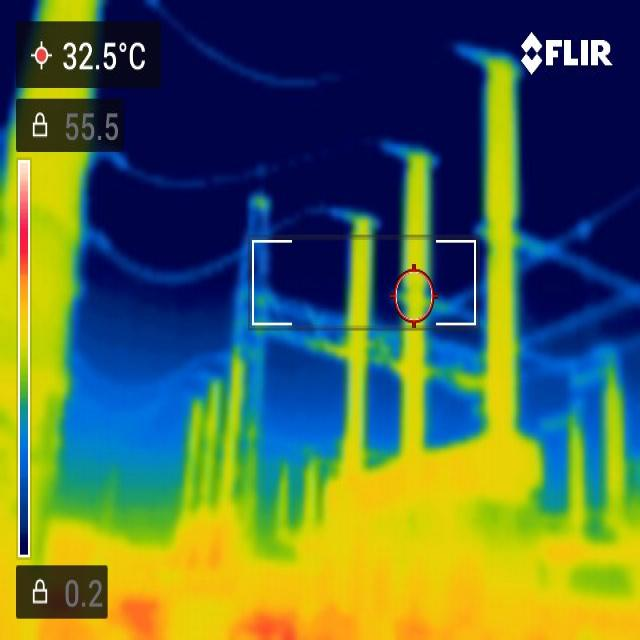Zona_Atenco: (243, 605, 324, 638), (121, 594, 165, 637)
